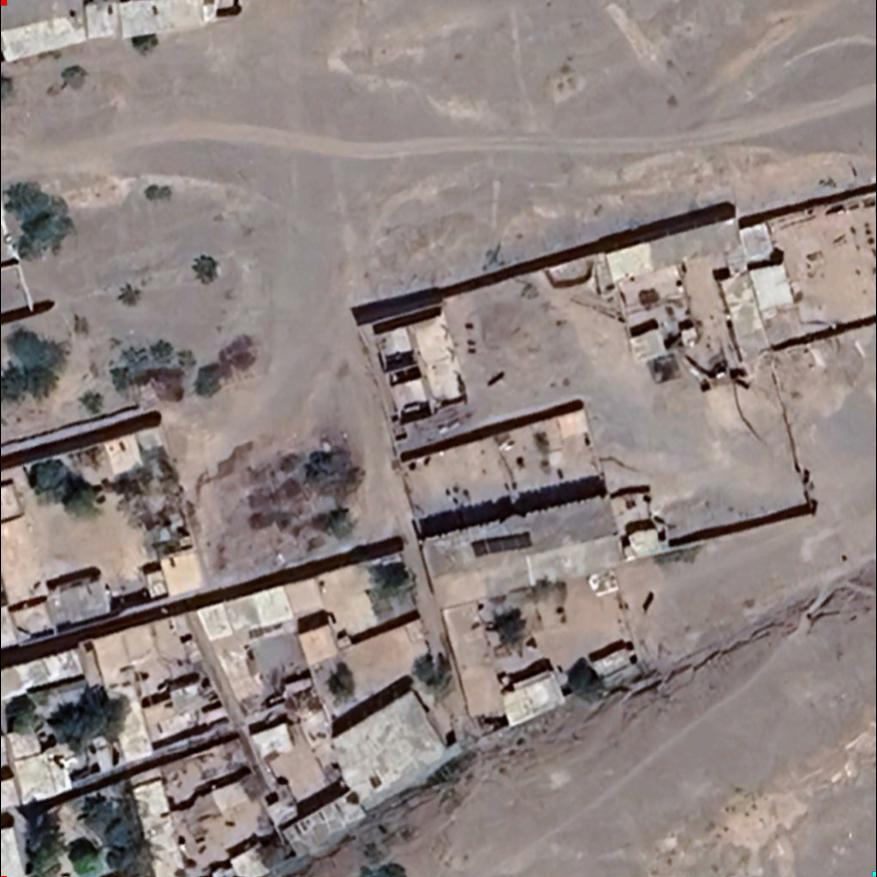Solarpanel: (466, 526, 540, 564)
